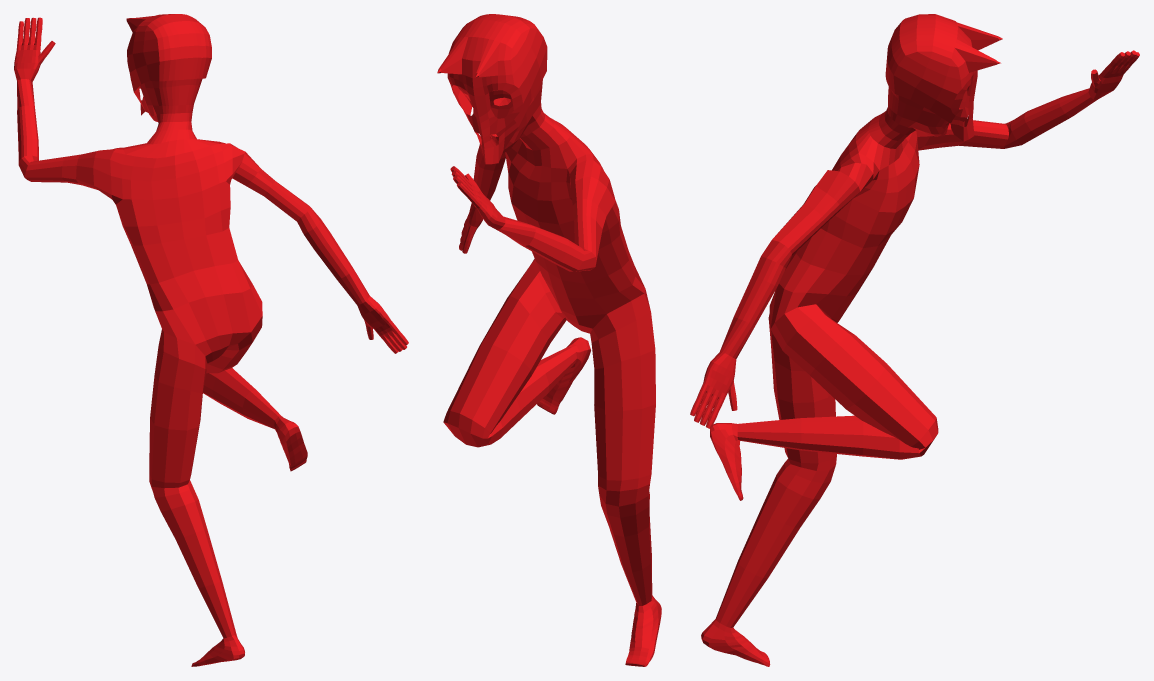
Rendered from saltoadelanteE_000102.obj.
The picture shows the model from 3 angles, left to right: view 1: azimuth 30°, elevation 25°; view 2: azimuth 150°, elevation 25°; view 3: azimuth 270°, elevation 25°; orthographic projection. The views are drawn at different scales.
Parts seen in each view (by area): view 1: Plane.002_Plane.001; view 2: Plane.002_Plane.001; view 3: Plane.002_Plane.001.
Part boxes in pixels (<box>): Plane.002_Plane.001: <box>14,14,408,666</box>; Plane.002_Plane.001: <box>437,14,661,666</box>; Plane.002_Plane.001: <box>690,14,1139,666</box>.
Bounding box in the file's own units: 3.03 × 6.86 × 4.2.
